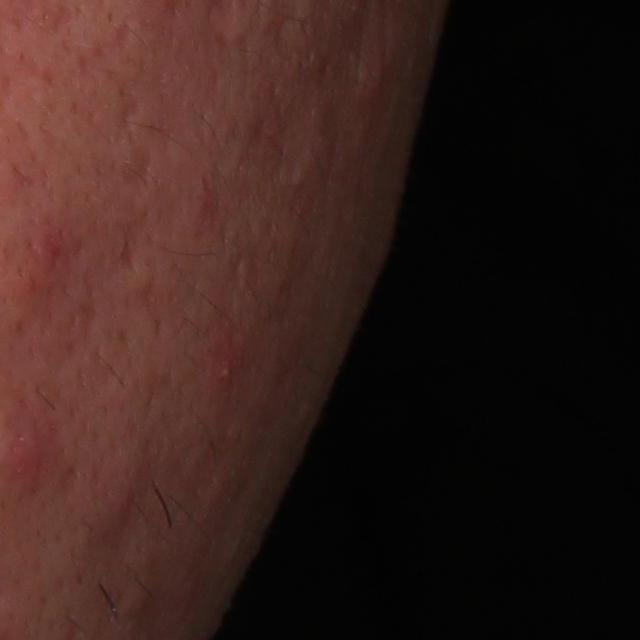papule: (15, 217, 85, 302), (74, 465, 149, 542), (346, 43, 395, 105)
